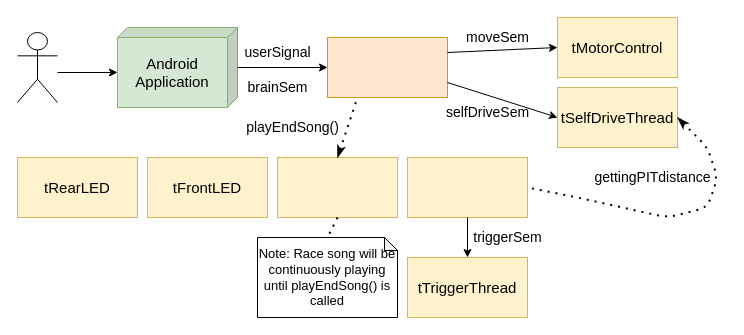
Image size: 744x335. Some labels were removed from this diagram. The shapes that lost their labels are listed below. From the top down, each one's centre as x and y in pixels, then its label:
At point 37,67: "User".
At point 387,67: "tBrainThread".
At point 337,187: "tAudio".
At point 467,187: "tUltrasonicThread".
